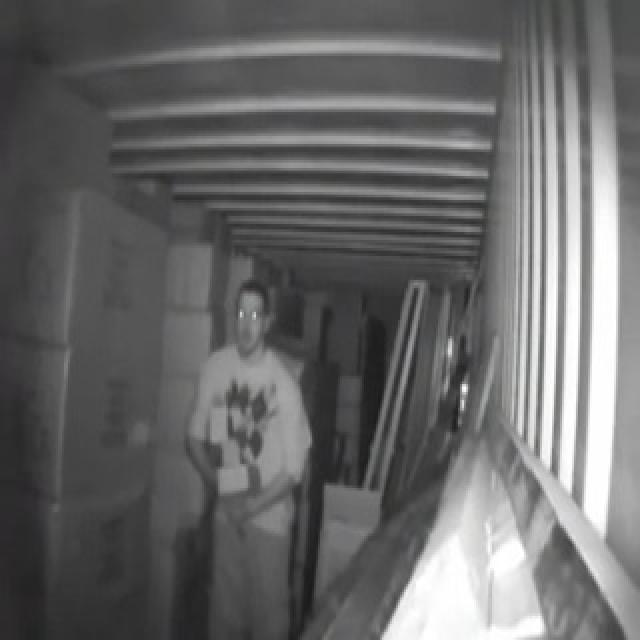thief: (212, 283, 310, 640)
